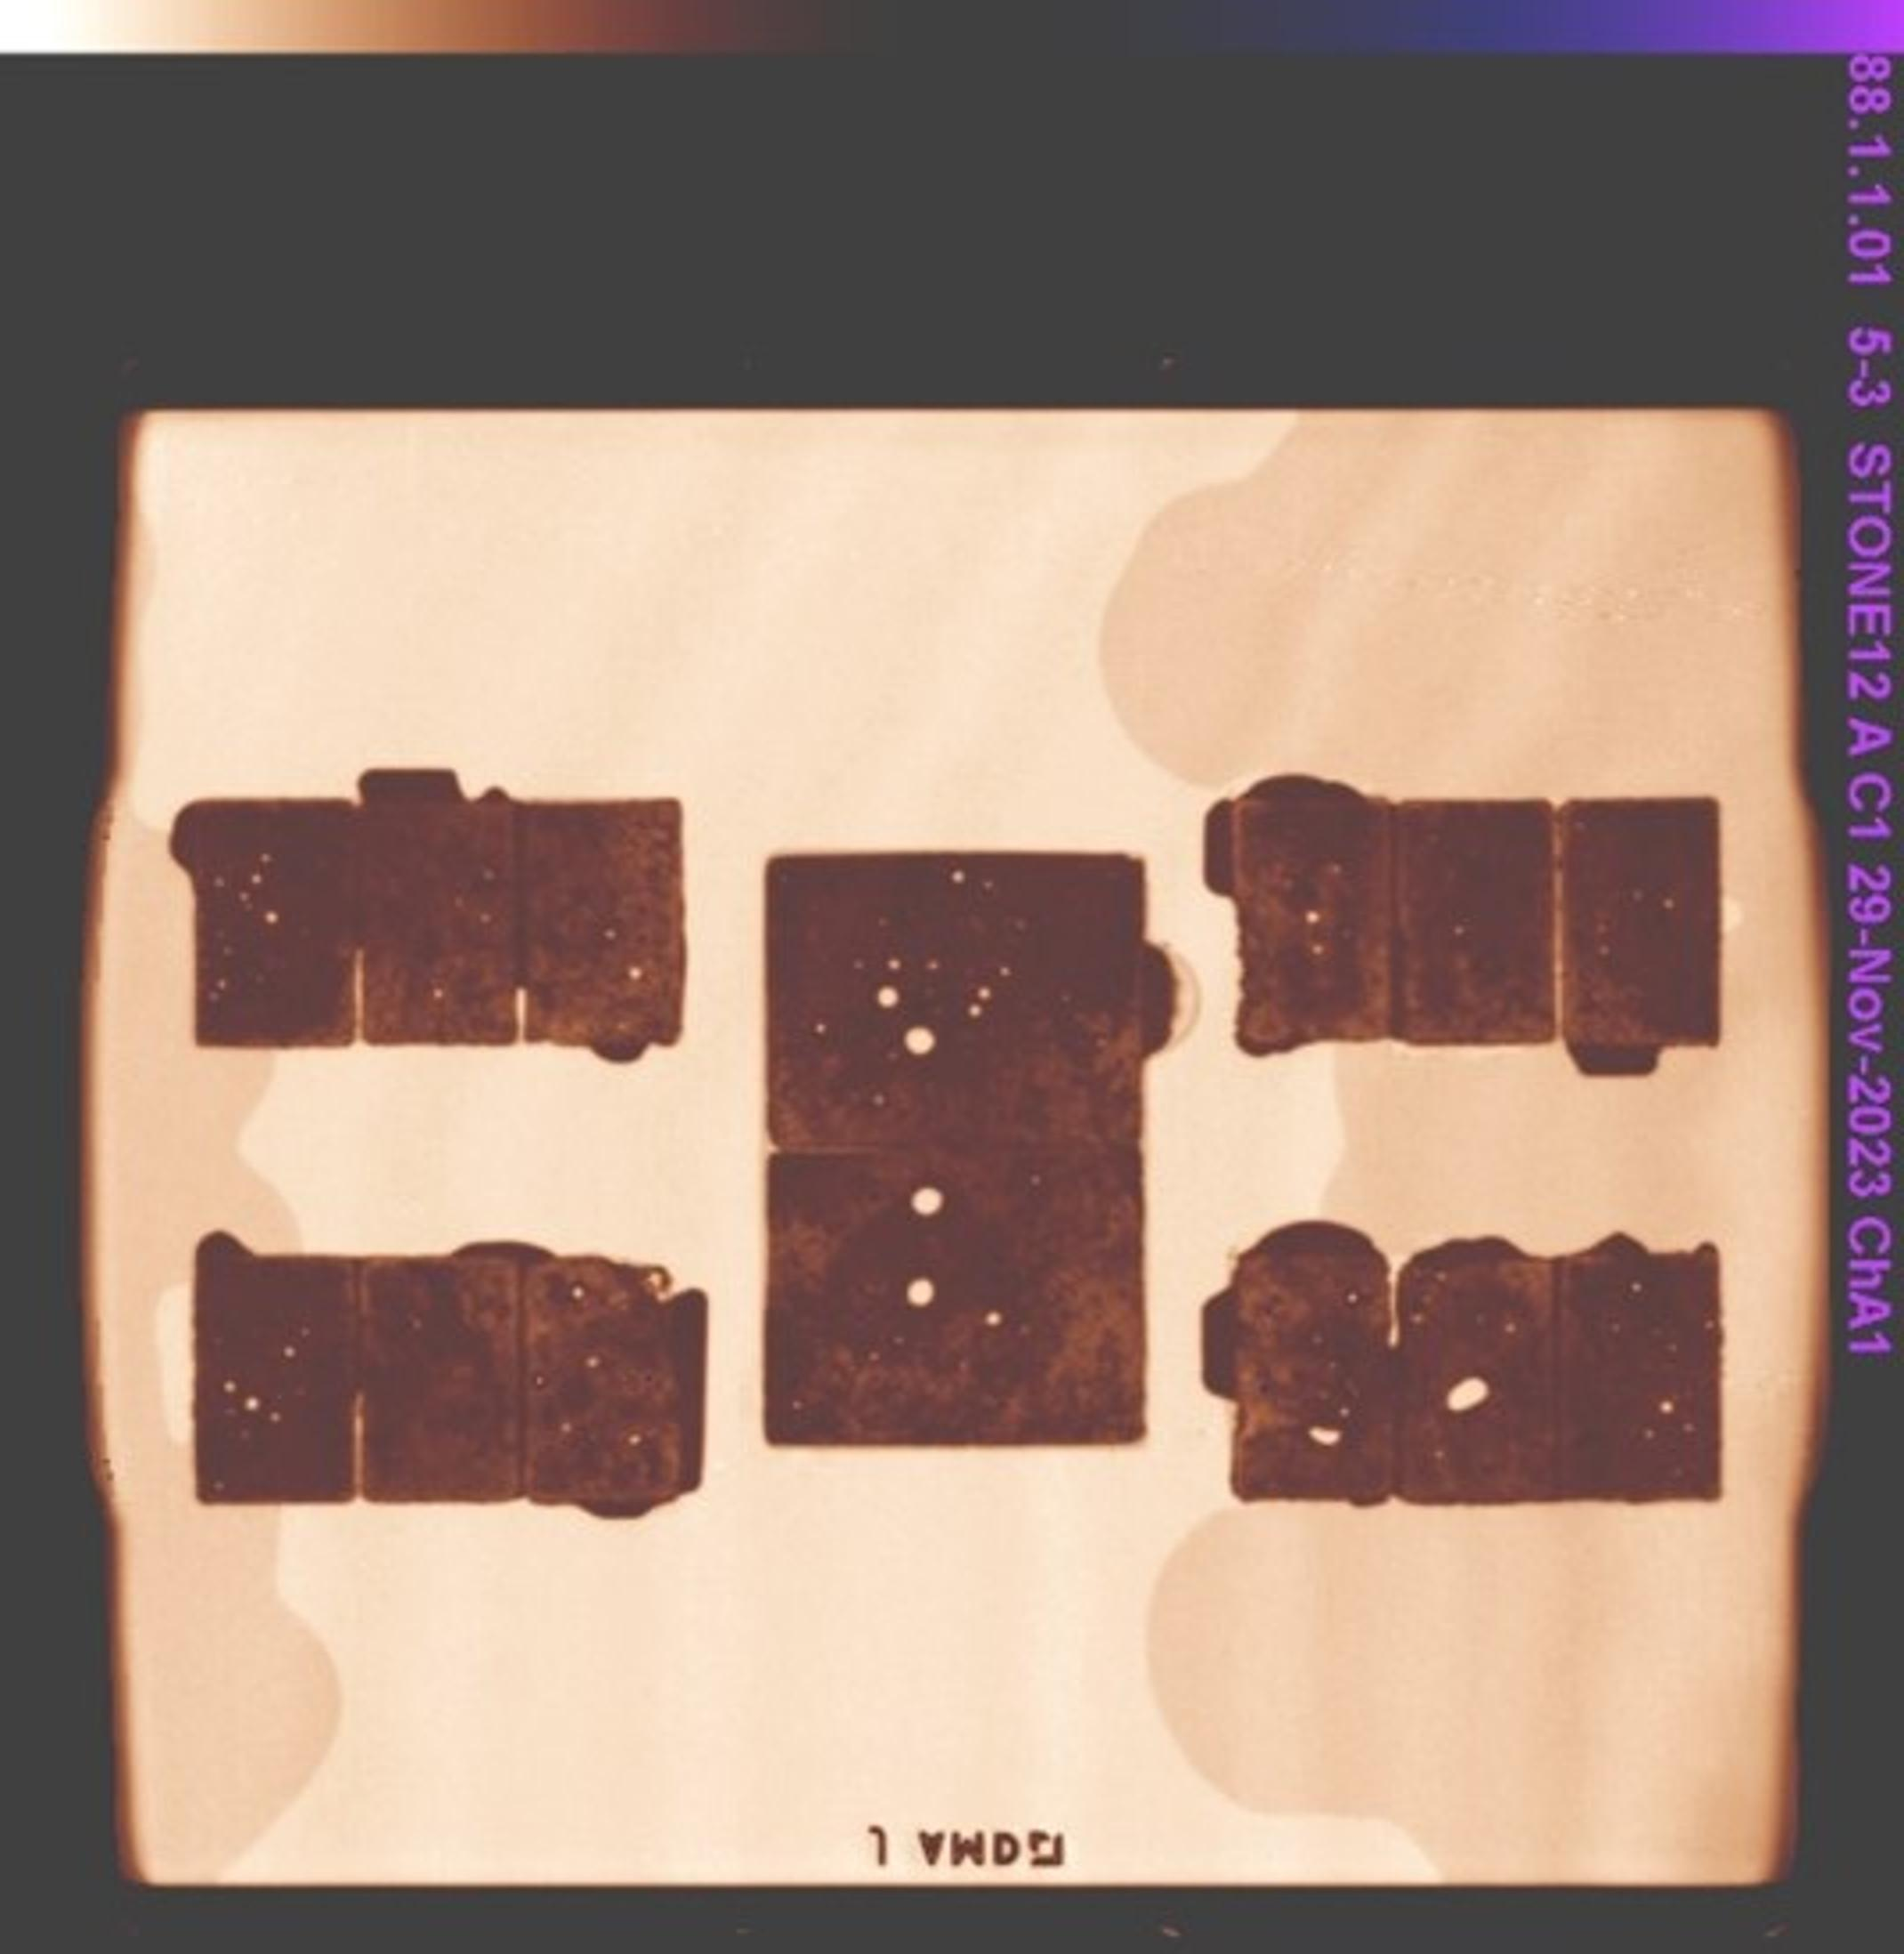CCD: (621, 1288, 729, 1467), (1175, 1288, 1283, 1467), (621, 1661, 729, 1841), (1175, 1661, 1283, 1841), (621, 105, 729, 283), (1175, 105, 1283, 283), (621, 291, 729, 469), (1175, 291, 1283, 469), (621, 1476, 729, 1654), (1175, 1476, 1283, 1654), (621, 0, 729, 98), (1175, 0, 1283, 98)
IOD: (593, 872, 1309, 1082)
